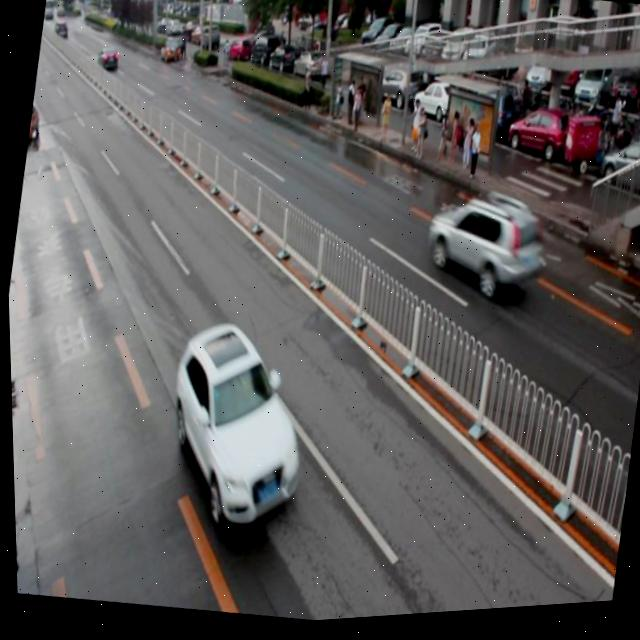car: (149, 313, 319, 545), (415, 187, 550, 314)
